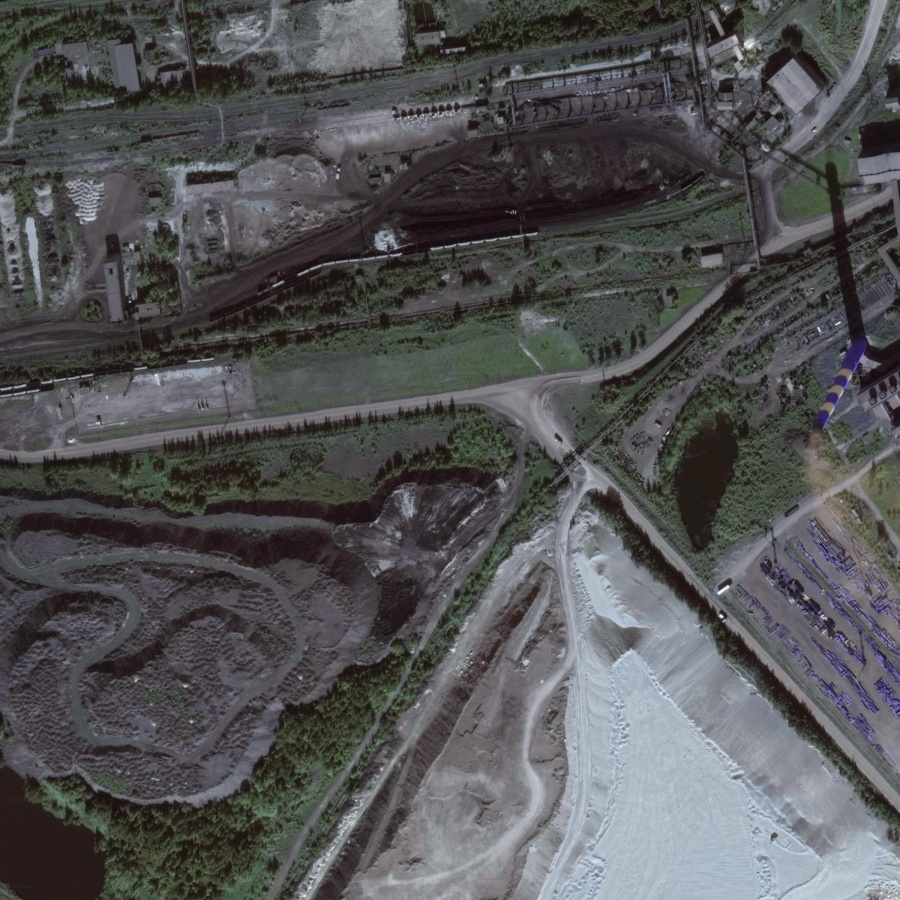PowerPlant: (273, 98, 713, 262)
